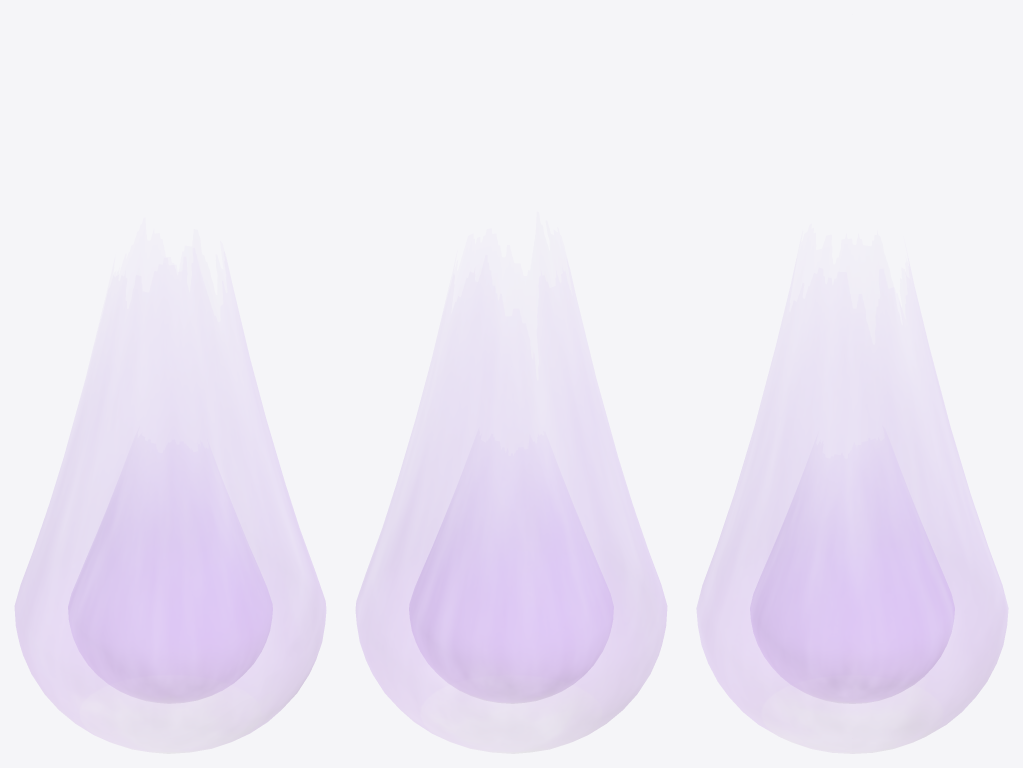
Rendered from head_arcane.glb.
The picture shows the model from 3 angles, left to right: view 1: azimuth 30°, elevation 25°; view 2: azimuth 150°, elevation 25°; view 3: azimuth 270°, elevation 25°; orthographic projection.
Parts seen in each view (by area): view 1: head; view 2: head; view 3: head.
Part boxes in pixels (left/top/right/bottom): head: left=15, top=401, right=325, bottom=753; head: left=356, top=404, right=666, bottom=753; head: left=697, top=400, right=1007, bottom=753.
Bounding box in the file's own units: 3.5 × 8.96 × 3.5.
Materials: 2 (2 with a texture image).
